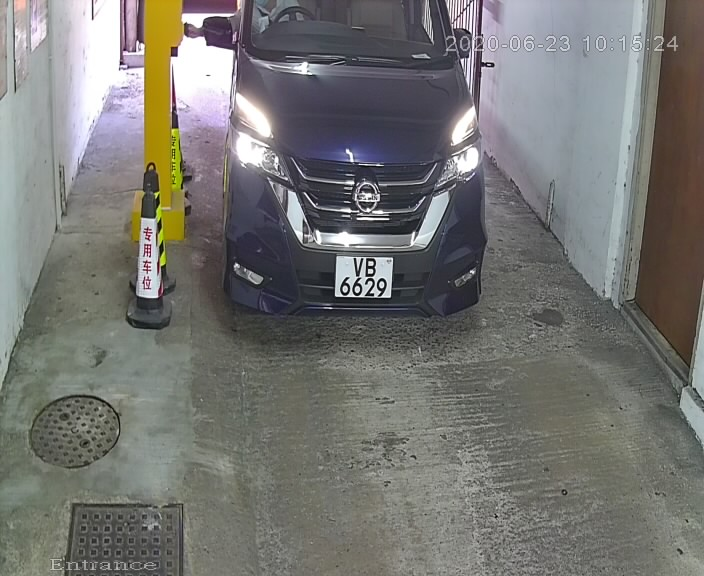privatecar: (189, 1, 521, 363)
